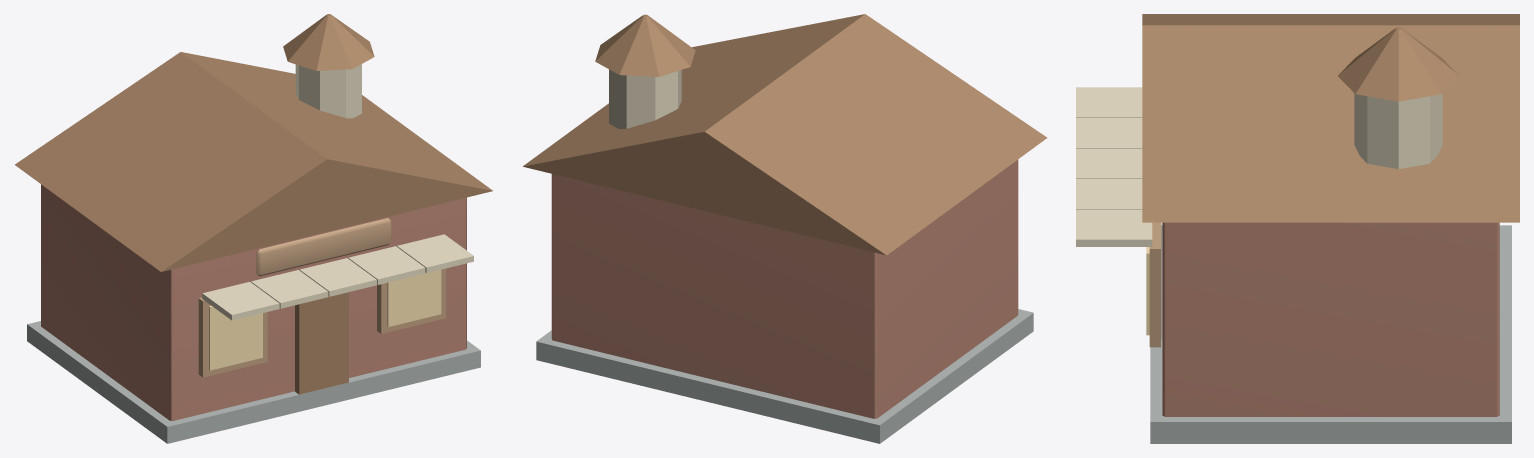
File: hearth-bakery.glb
The picture shows the model from 3 angles, left to right: view 1: azimuth 30°, elevation 25°; view 2: azimuth 150°, elevation 25°; view 3: azimuth 270°, elevation 25°; orthographic projection. The views are drawn at different scales.
Parts seen in each view (by area): view 1: Hearth bakery roof, Hearth bakery shop walls, Hearth bakery plinth, Shop door, Store sign, Cupola cap, Corner cupola, Display glass, Display glass.001, Striped shop canopy, Striped shop canopy.001, Striped shop canopy.002 (+4 smaller); view 2: Hearth bakery shop walls, Hearth bakery roof, Hearth bakery plinth, Cupola cap, Corner cupola; view 3: Hearth bakery roof, Hearth bakery shop walls, Hearth bakery plinth, Corner cupola, Cupola cap, Striped shop canopy.004, Striped shop canopy, Striped shop canopy.001, Striped shop canopy.003, Striped shop canopy.002, Display window frame.001.
Boxes of the visible parts, x1,y1,x2,y2 form: Hearth bakery roof: (15,52,492,271); Hearth bakery shop walls: (41,184,466,420); Hearth bakery plinth: (27,321,480,443); Shop door: (295,292,348,394); Store sign: (256,218,391,276); Cupola cap: (283,14,374,70); Corner cupola: (295,64,361,118); Display glass: (209,305,262,370); Display glass.001: (387,269,441,326); Striped shop canopy: (202,282,279,320); Striped shop canopy.001: (251,270,328,308); Striped shop canopy.002: (299,258,376,296); Hearth bakery shop walls: (551,159,1018,418); Hearth bakery roof: (523,14,1047,255); Hearth bakery plinth: (536,309,1033,443); Cupola cap: (595,14,695,77); Corner cupola: (609,69,681,128); Hearth bakery roof: (1142,14,1519,222); Hearth bakery shop walls: (1162,222,1499,416); Hearth bakery plinth: (1150,225,1511,443); Corner cupola: (1354,93,1442,169); Cupola cap: (1338,27,1459,101); Striped shop canopy.004: (1076,209,1152,246); Striped shop canopy: (1076,87,1142,117); Striped shop canopy.001: (1076,118,1142,148); Striped shop canopy.003: (1076,179,1142,209); Striped shop canopy.002: (1076,148,1142,178); Display window frame.001: (1149,222,1160,347).
Bounding box in the file's own units: 6.15 × 5.23 × 5.52.
